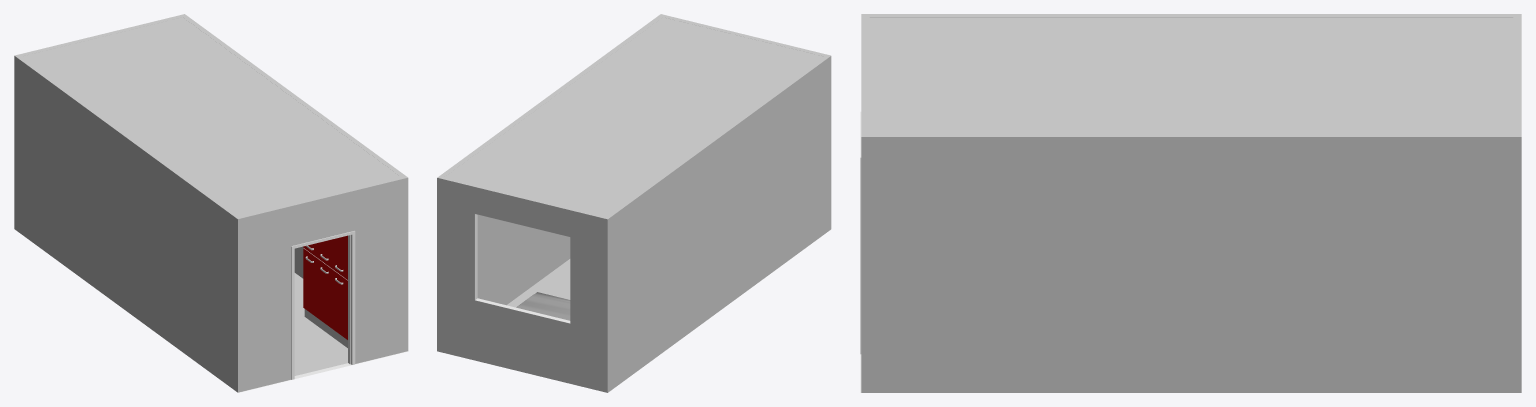
File: habitat_6x2.6.glb
The picture shows the model from 3 angles, left to right: view 1: azimuth 30°, elevation 25°; view 2: azimuth 150°, elevation 25°; view 3: azimuth 270°, elevation 25°; orthographic projection. The views are drawn at different scales.
Parts seen in each view (by area): view 1: habitat 6x2.6; view 2: habitat 6x2.6; view 3: habitat 6x2.6.
Boxes of the visible parts, x1,y1,x2,y2 form: habitat 6x2.6: [14, 14, 408, 392]; habitat 6x2.6: [437, 14, 831, 392]; habitat 6x2.6: [860, 14, 1521, 392].
Bounding box in the file's own units: 2.67 × 2.6 × 6.09.
